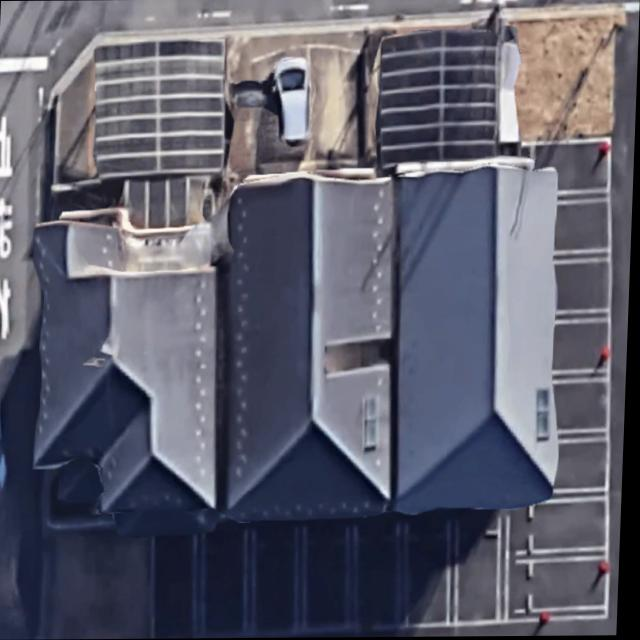Batiment: (221, 178, 397, 520), (35, 224, 221, 535), (395, 168, 561, 513)
